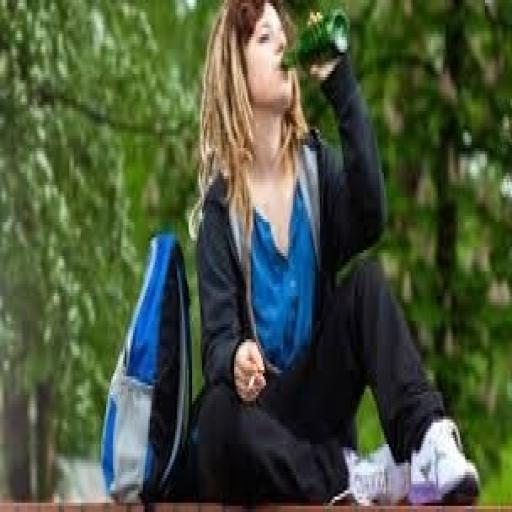drinking: (177, 7, 414, 202)
